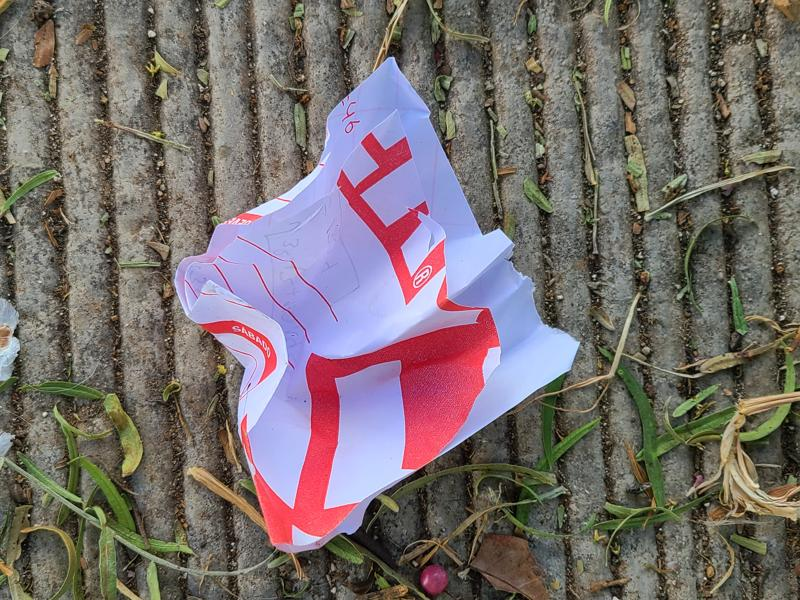papel: (173, 58, 580, 556)
